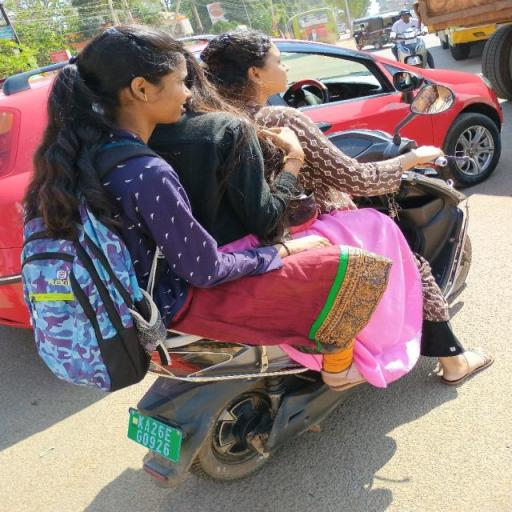tripple riding: (18, 22, 493, 398)
